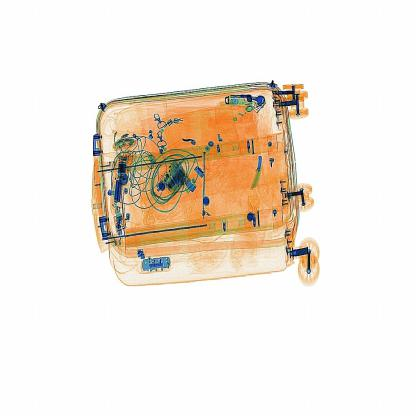wrench: (240, 143, 271, 196)
